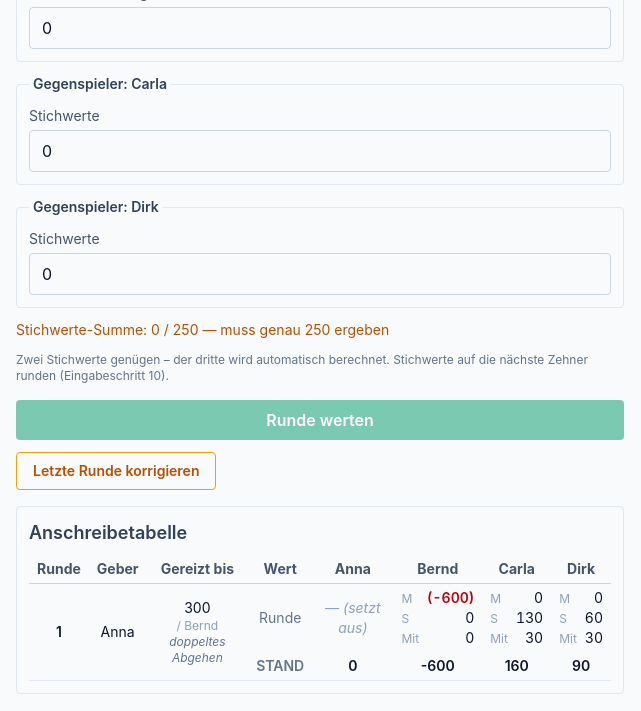
Test: SpielView › belegt bei Korrektur einer doppelt-abgegangenen Runde den SM-Stichwert vor (Kontrollsumme 250, FND-004)
(page scrolled)
What coordinates should you click on to do the following:
click the button with test id "korrektur-starten"
I would click on:
 (116, 471)
Its box is [16, 452, 216, 490].
(page scrolled)
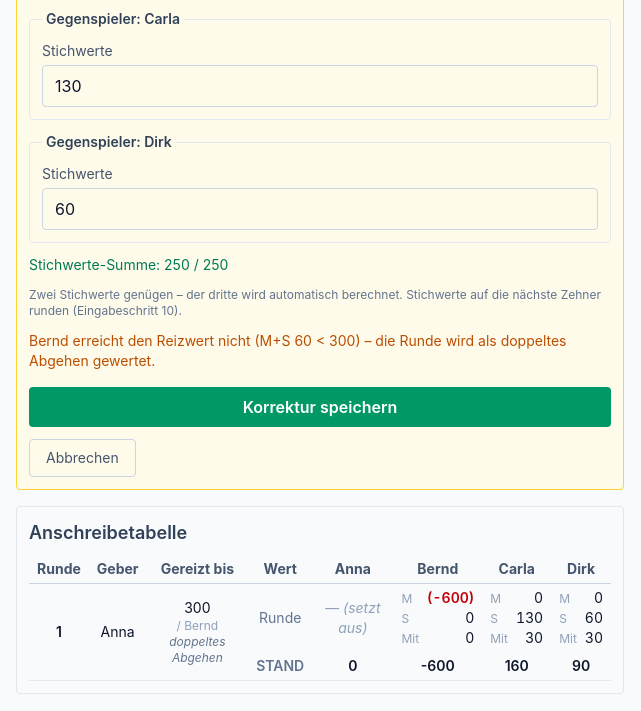
Now the button with test id "runde-absenden" is enabled, box [29, 387, 611, 427]
